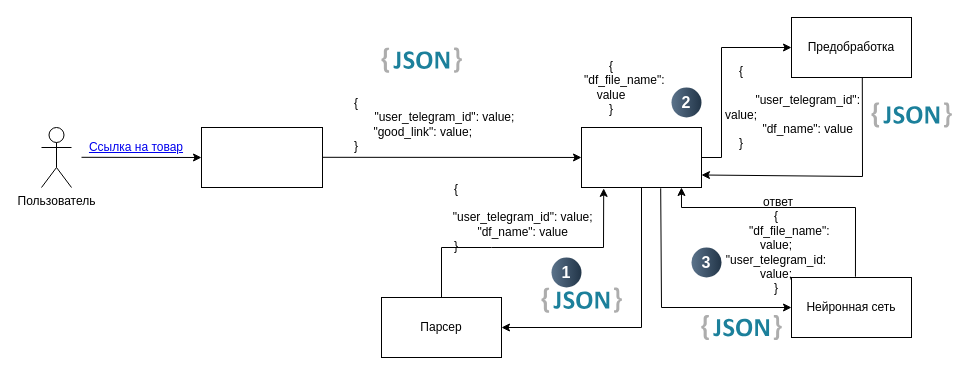
The diagram is 969 pixels wide and 375 high, and some of its shapes have lost their labels. Each missing label, with the box of its shape:
Брокер сообщений (RabbitMQ): (580, 126, 702, 188)
Телеграм бот: (200, 126, 322, 188)
